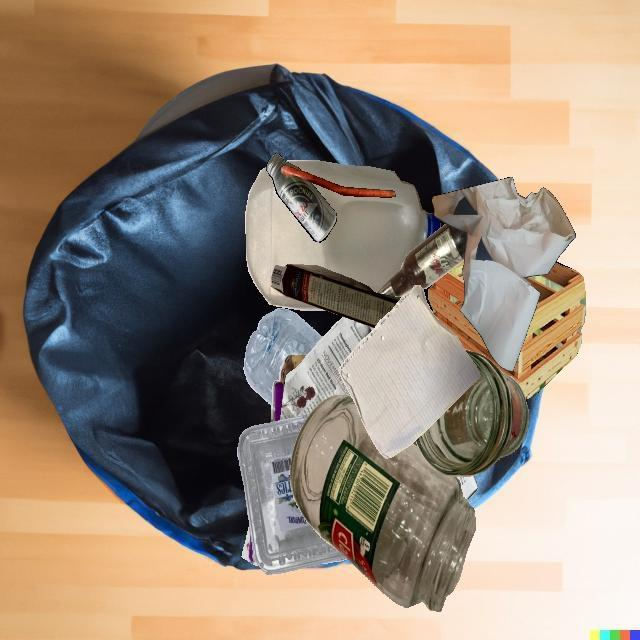biowaste: (281, 166, 396, 198)
cardboard: (256, 371, 348, 572), (270, 264, 401, 328)
combustible waste: (428, 260, 586, 399)
glass: (290, 394, 476, 611), (416, 349, 529, 477), (376, 223, 467, 297)
metal: (265, 153, 337, 243)
paper: (432, 177, 576, 371), (338, 285, 481, 459), (280, 316, 374, 420)
plastic: (245, 160, 440, 310), (237, 414, 346, 574), (244, 308, 322, 406)
